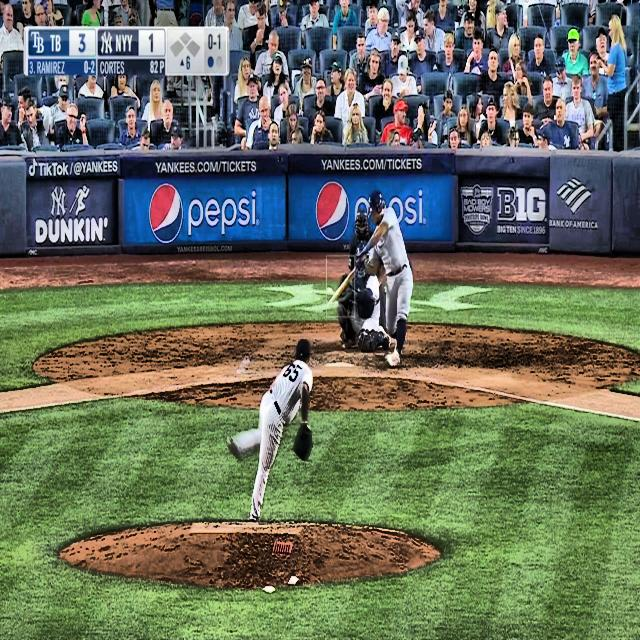baseball: (327, 287, 334, 296)
